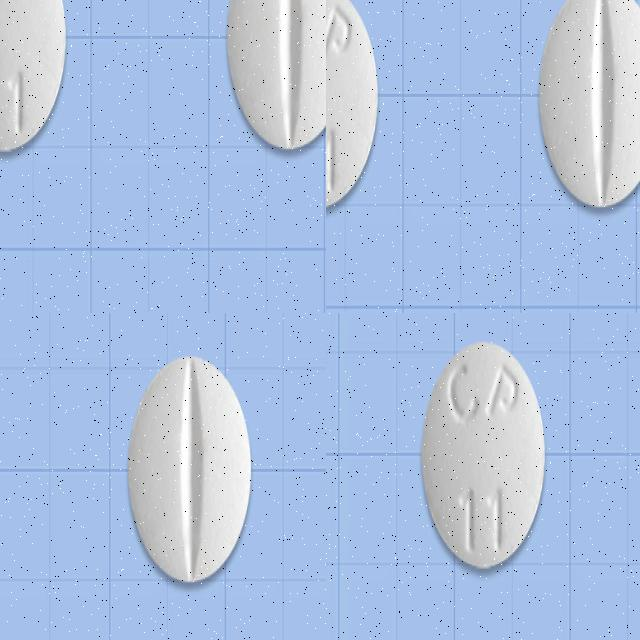Lefloxa: (83, 313, 326, 640)
Megarokshin: (24, 55, 208, 313)
Prodin Tab: (419, 336, 548, 570)
Tricyline-N Cap: (334, 108, 519, 313)
